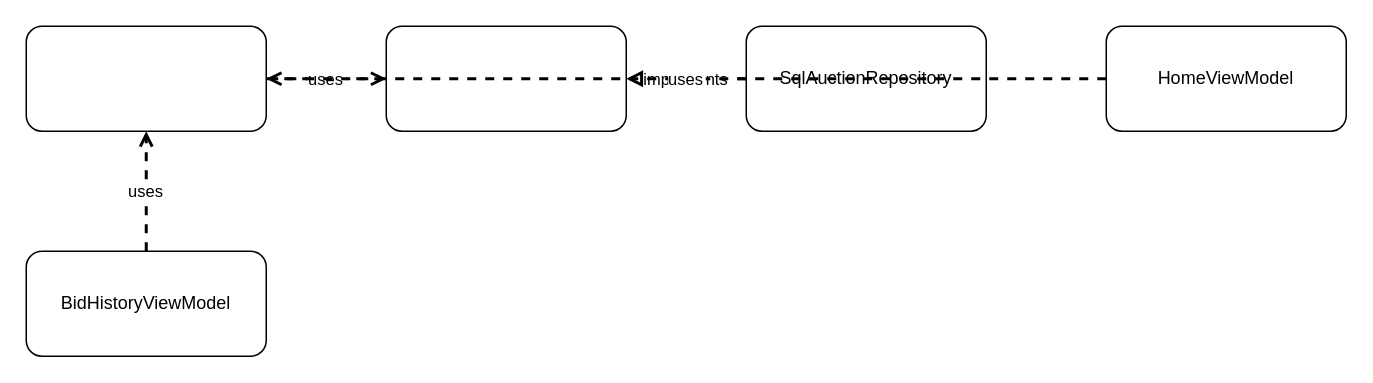
This 1373x383 diagram has some shape labels left out. Each missing label, with the centre of its shape:
"AuctionHouse" belongs at point 145,78.
"IAuctionRepository" belongs at point 505,78.
